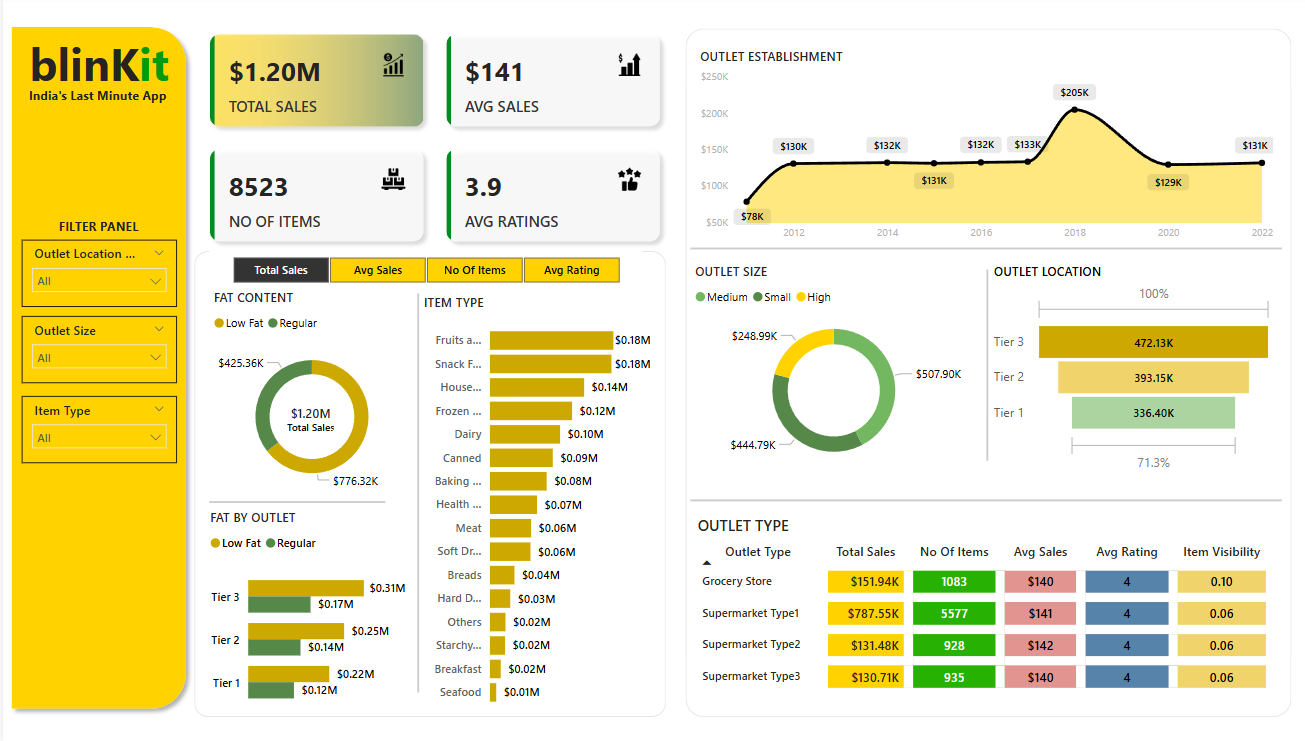

The dashboard page shown, as its layout file describes it:
{"tool":"powerbi","page":{"name":"Page 1","canvas":[1400,800],"ordinal":0},"visuals":[{"type":"shape","box":[0,24.1,205.1,749.3],"z":0},{"type":"textbox","box":[17.4,34.9,171.6,115.3],"z":1000},{"type":"textbox","box":[22.8,92.5,160.9,37.5],"z":2000},{"type":"cardVisual","fields":{"Data":["BlinkIT Grocery Data.Total Sales","BlinkIT Grocery Data.Avg Sales","BlinkIT Grocery Data.No Of Items","BlinkIT Grocery Data.Avg Rating"]},"box":[205.1,24.1,516.1,257.4],"z":3000},{"type":"shape","box":[205.6,273.2,505.8,499.8],"z":4000},{"type":"donutChart","title":" FAT CONTENT","fields":{"Y":["BlinkIT Grocery Data.Total Sales"],"Category":["BlinkIT Grocery Data.Item Fat Content"]},"box":[220.6,313.7,220.6,229.6],"z":5000},{"type":"slicer","fields":{"Values":["metrics.metrics"]},"box":[220.6,273.2,463.8,40.5],"z":6000},{"type":"cardVisual","fields":{"Data":["BlinkIT Grocery Data.Total Sales"]},"box":[294.2,429.2,73.5,45],"z":7000},{"type":"clusteredBarChart","title":"FAT BY OUTLET","fields":{"Y":["BlinkIT Grocery Data.Total Sales"],"Category":["BlinkIT Grocery Data.Outlet Location Type"],"Series":["BlinkIT Grocery Data.Item Fat Content"]},"box":[217.2,549.6,219.8,229.2],"z":8000},{"type":"shape","box":[220.6,532.8,189.1,21],"z":9000},{"type":"shape","box":[436.8,319.7,16.5,427.7],"z":10000},{"type":"barChart","title":"ITEM TYPE","fields":{"Y":["BlinkIT Grocery Data.Total Sales"],"Category":["BlinkIT Grocery Data.Item Type"]},"box":[445.8,319.7,253.6,453.3],"z":11000},{"type":"shape","box":[732.4,34.5,649.9,738.4],"z":12000},{"type":"lineChart","title":"OUTLET ESTABLISHMENT","fields":{"Category":["BlinkIT Grocery Data.Outlet Establishment Year"],"Y":["BlinkIT Grocery Data.Total Sales"]},"box":[742.6,55,624.7,215.8],"z":13000},{"type":"shape","box":[737.3,261.4,634.1,18.8],"z":14000},{"type":"donutChart","title":"OUTLET SIZE","fields":{"Y":["BlinkIT Grocery Data.Total Sales"],"Category":["BlinkIT Grocery Data.Outlet Size"]},"box":[736.9,285.2,307.7,229.6],"z":15000},{"type":"shape","box":[1049.6,293.6,12.1,205.1],"z":16000},{"type":"funnel","title":"OUTLET LOCATION","fields":{"Y":["Sum(BlinkIT Grocery Data.Sales)"],"Category":["BlinkIT Grocery Data.Outlet Location Type"]},"box":[1058.1,285.2,309.2,229.6],"z":17000},{"type":"shape","box":[737.3,532.2,634.1,17.4],"z":18000},{"type":"pivotTable","title":"OUTLET TYPE","fields":{"Rows":["BlinkIT Grocery Data.Outlet Type"],"Values":["BlinkIT Grocery Data.Total Sales","BlinkIT Grocery Data.No Of Items","BlinkIT Grocery Data.Avg Sales","BlinkIT Grocery Data.Avg Rating","Avg(BlinkIT Grocery Data.Item Visibility)"]},"box":[739.9,556.8,630.4,243.1],"z":19000},{"type":"slicer","fields":{"Values":["BlinkIT Grocery Data.Outlet Location Type"]},"box":[20.1,261.4,166.2,72.4],"z":20000},{"type":"slicer","fields":{"Values":["BlinkIT Grocery Data.Outlet Size"]},"box":[20.1,343.2,166.2,72.4],"z":21000},{"type":"slicer","fields":{"Values":["BlinkIT Grocery Data.Item Type"]},"box":[20.1,429,166.2,72.4],"z":22000},{"type":"textbox","box":[26.8,233.2,151.5,28.2],"z":23000}]}

Visuals, with their boxes in screenshot pixels (x1, y1, x2, y2), scaled from the page's 1400x800 canvas onto the 1305x741 screenshot:
shape: [x1=0, y1=22, x2=191, y2=716]
textbox: [x1=16, y1=32, x2=176, y2=139]
textbox: [x1=21, y1=86, x2=171, y2=120]
cardVisual - BlinkIT Grocery Data.Total Sales x BlinkIT Grocery Data.Avg Sales: [x1=191, y1=22, x2=672, y2=261]
shape: [x1=192, y1=253, x2=663, y2=716]
" FAT CONTENT" donutChart: [x1=206, y1=291, x2=411, y2=503]
slicer - metrics.metrics: [x1=206, y1=253, x2=638, y2=291]
cardVisual - BlinkIT Grocery Data.Total Sales: [x1=274, y1=398, x2=343, y2=439]
"FAT BY OUTLET" clusteredBarChart: [x1=202, y1=509, x2=407, y2=721]
shape: [x1=206, y1=494, x2=382, y2=513]
shape: [x1=407, y1=296, x2=423, y2=692]
"ITEM TYPE" barChart: [x1=416, y1=296, x2=652, y2=716]
shape: [x1=683, y1=32, x2=1289, y2=716]
"OUTLET ESTABLISHMENT" lineChart: [x1=692, y1=51, x2=1275, y2=251]
shape: [x1=687, y1=242, x2=1278, y2=260]
"OUTLET SIZE" donutChart: [x1=687, y1=264, x2=974, y2=477]
shape: [x1=978, y1=272, x2=990, y2=462]
"OUTLET LOCATION" funnel: [x1=986, y1=264, x2=1275, y2=477]
shape: [x1=687, y1=493, x2=1278, y2=509]
"OUTLET TYPE" pivotTable: [x1=690, y1=516, x2=1277, y2=740]
slicer - BlinkIT Grocery Data.Outlet Location Type: [x1=19, y1=242, x2=174, y2=309]
slicer - BlinkIT Grocery Data.Outlet Size: [x1=19, y1=318, x2=174, y2=385]
slicer - BlinkIT Grocery Data.Item Type: [x1=19, y1=397, x2=174, y2=464]
textbox: [x1=25, y1=216, x2=166, y2=242]
